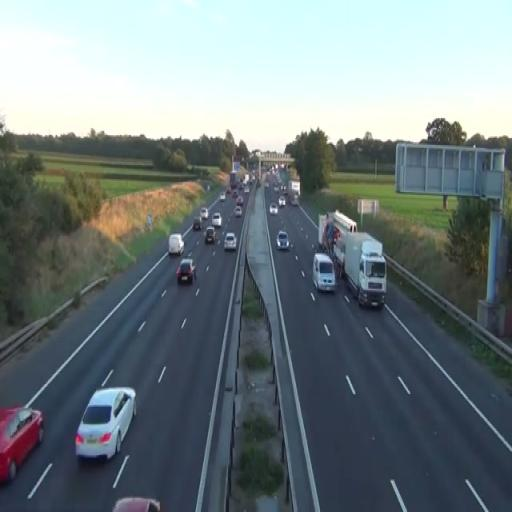Car: (75, 387, 137, 462), (0, 404, 45, 485), (312, 252, 336, 293), (112, 498, 160, 512), (176, 259, 196, 284), (168, 233, 185, 256), (276, 231, 290, 251), (224, 232, 238, 252), (205, 225, 215, 244), (212, 212, 222, 227), (234, 206, 244, 218), (270, 202, 278, 216)
Truck: (318, 209, 387, 310)
